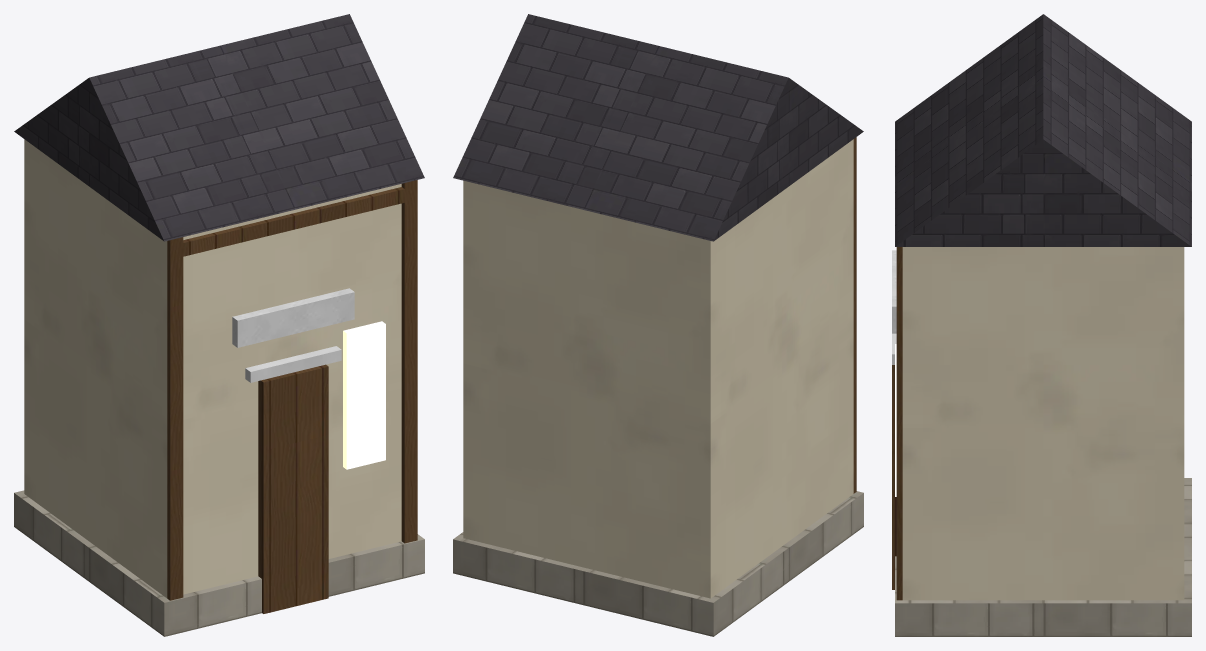
File: category.nft.t2.glb
3 renders of one model, left to right at view 1: azimuth 30°, elevation 25°; view 2: azimuth 150°, elevation 25°; view 3: azimuth 270°, elevation 25°, orthographic.
Parts seen in each view (by area): view 1: building.category.nft.t2; view 2: building.category.nft.t2; view 3: building.category.nft.t2.
Boxes of the visible parts, left/top/right/bottom form: building.category.nft.t2: left=14, top=14, right=424, bottom=636; building.category.nft.t2: left=453, top=14, right=863, bottom=636; building.category.nft.t2: left=892, top=14, right=1191, bottom=636.
Size of the model in its own units: 2 by 3.7 by 2.02.
Materials: 7 (6 with a texture image).
